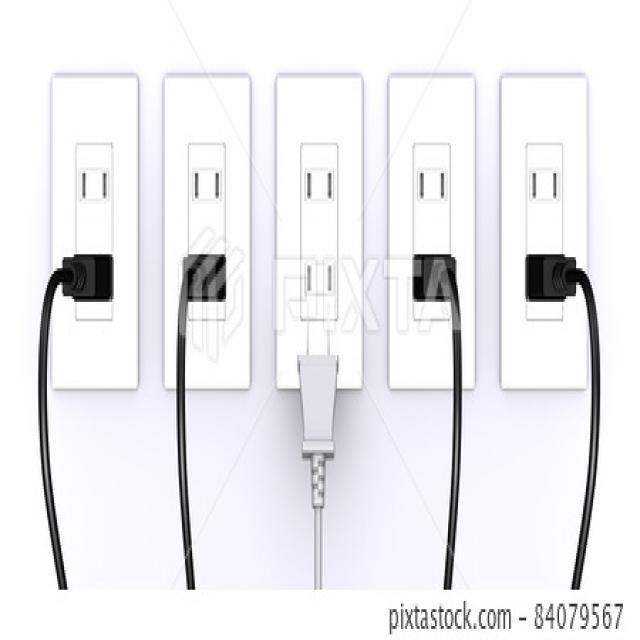typeb: (382, 59, 493, 420), (152, 58, 260, 412), (272, 42, 372, 420), (493, 57, 600, 392), (48, 67, 146, 403)
